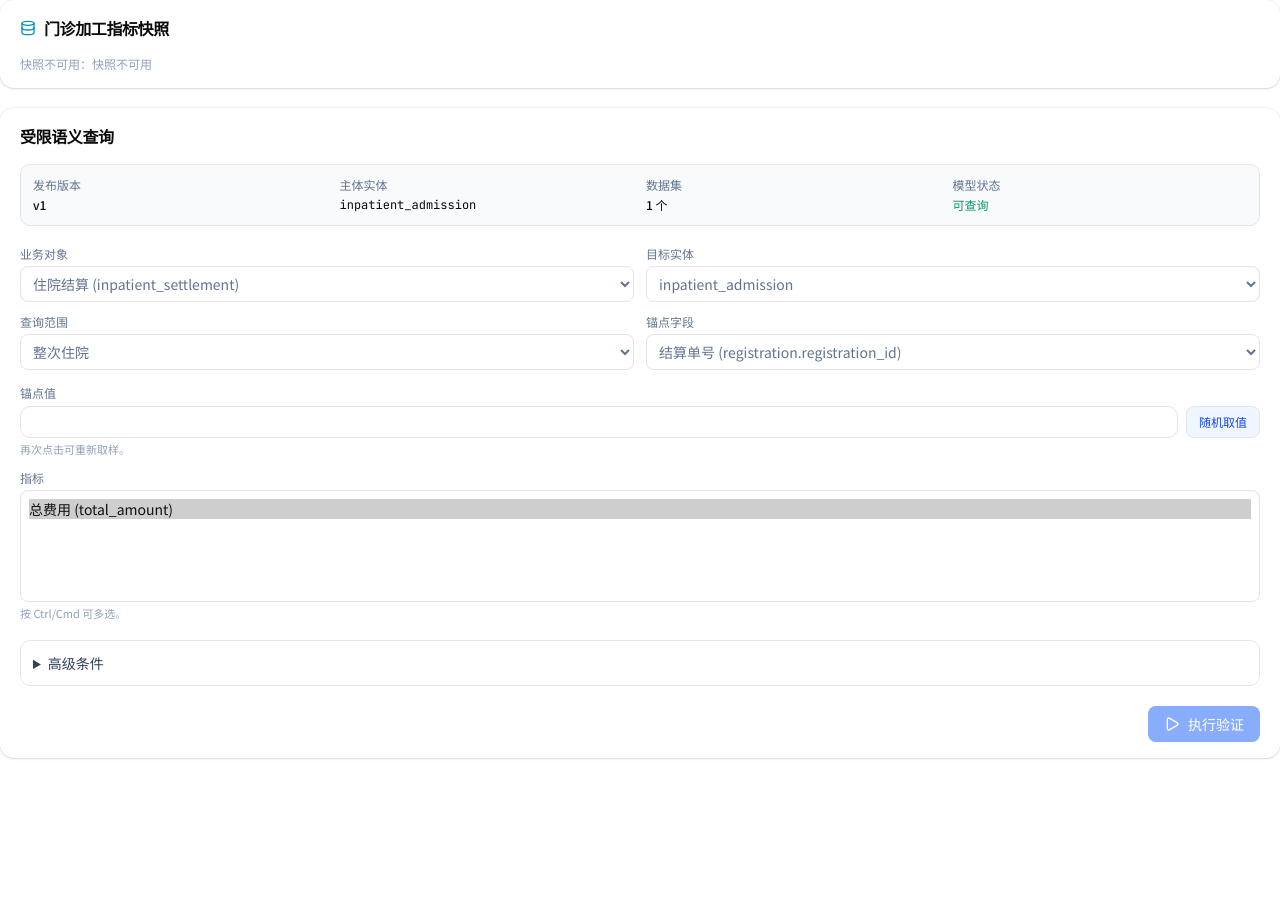
it: SemanticQueryPage › derives dependent fields from the selected published query model
The width and height of the screenshot is (1280, 900).
Expected: the dropdown labelled "业务对象" shows "住院结算 (inpatient_settlement)", 20,266 -> 634,302
Expected: the dropdown labelled "目标实体" shows "inpatient_admission", 646,266 -> 1260,302
Type "old-value" into the field labelled "锚点值" at {"x": 599, "y": 422}, box 20,406 -> 1178,438
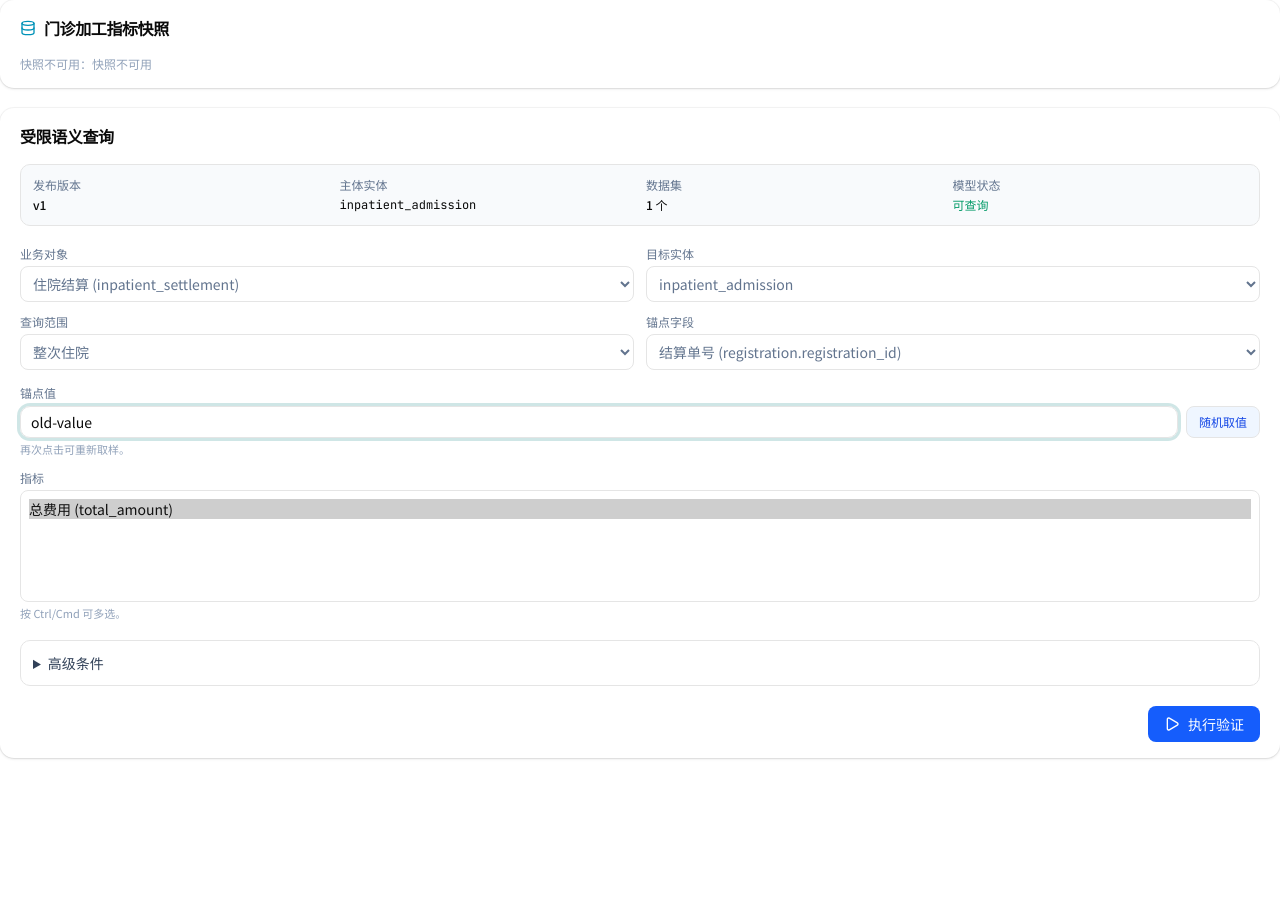
Select "第二对象 (second_queryable)" in the dropdown labelled "业务对象" at {"x": 327, "y": 284}, box 20,266 -> 634,302
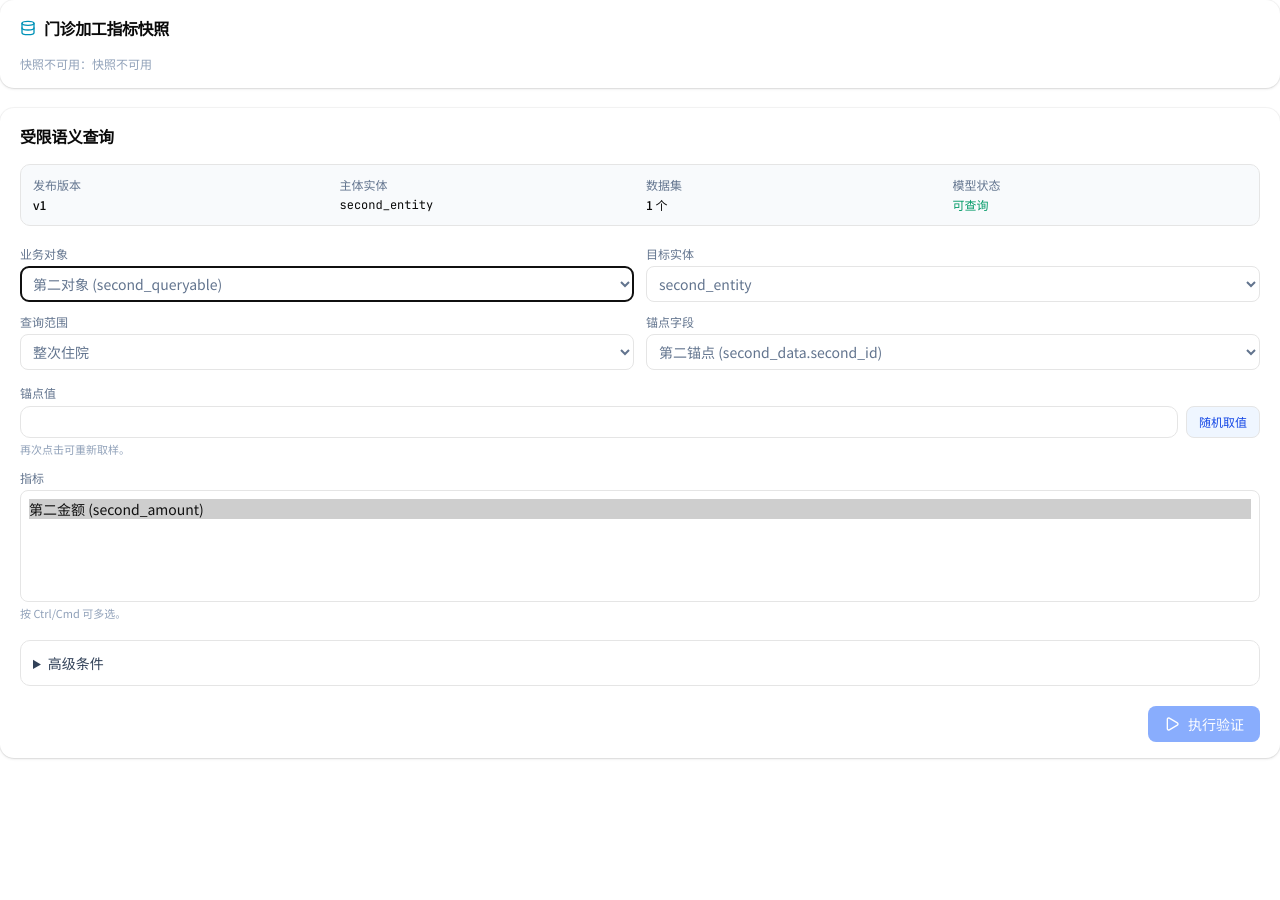
Expected: the dropdown labelled "目标实体" shows "second_entity", 646,266 -> 1260,302
Expected: the dropdown labelled "锚点字段" shows "第二锚点 (second_data.second_id)", 646,334 -> 1260,370
Expected: the field labelled "锚点值" is empty, 20,406 -> 1178,438
